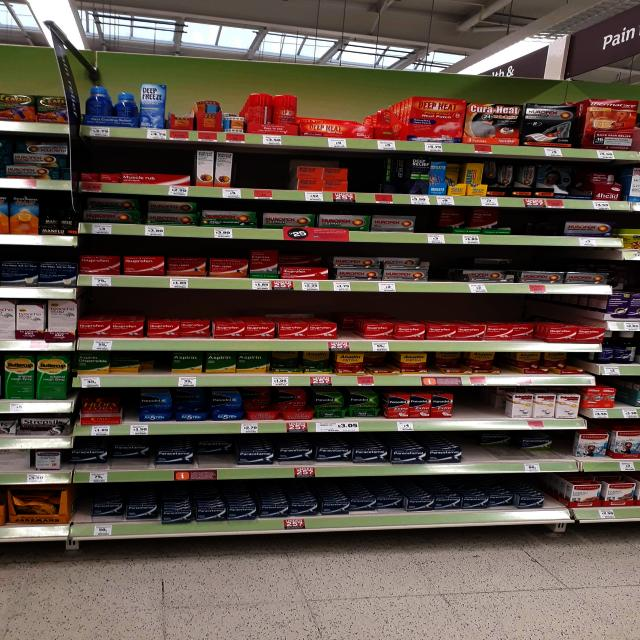empty_space: (354, 158, 386, 190), (250, 158, 282, 186), (474, 446, 522, 462), (460, 394, 490, 415), (337, 321, 357, 335)
